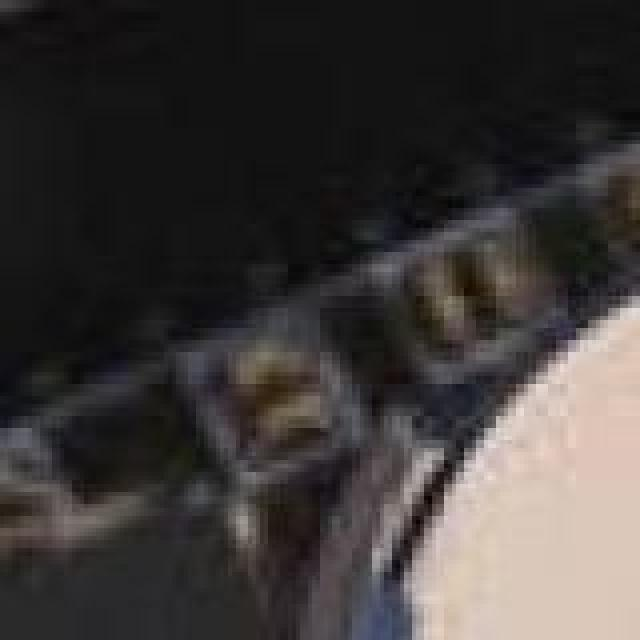battery: (288, 80, 640, 640)
